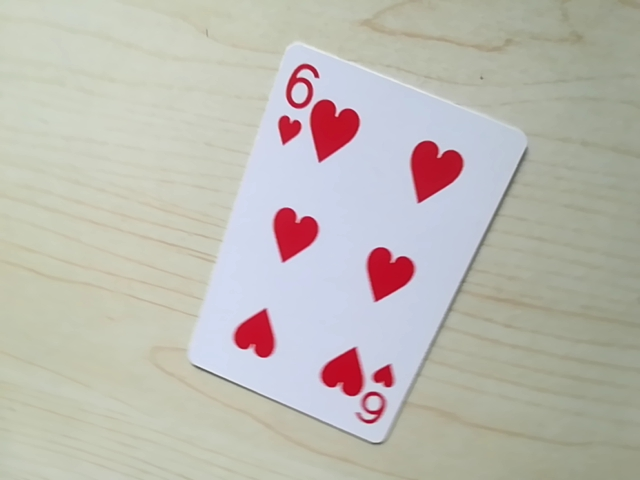hx 6: (277, 54, 330, 124), (345, 375, 398, 433)
